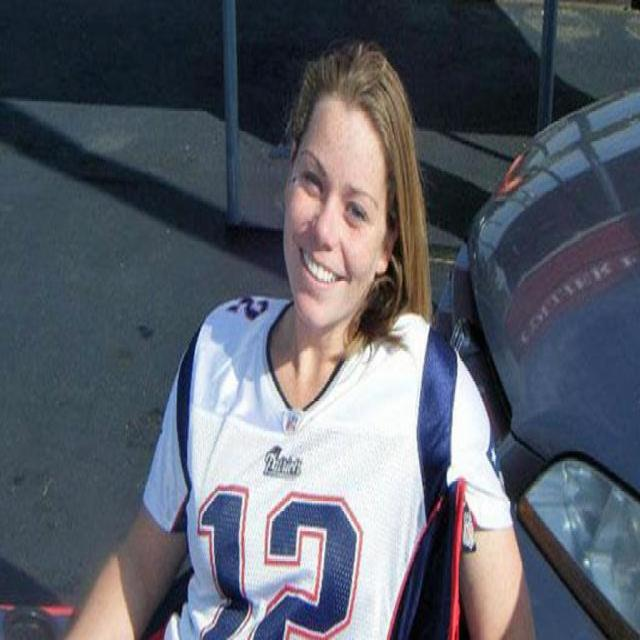Face: (271, 75, 396, 333)
